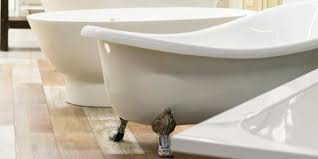bathub: (82, 2, 318, 154), (29, 8, 248, 115)
